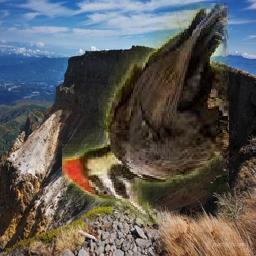Woodpecker: (63, 4, 230, 225)
